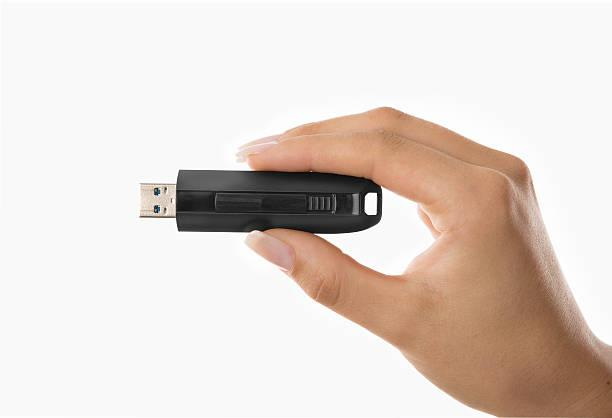USB Flash Drive: (138, 169, 384, 236)
